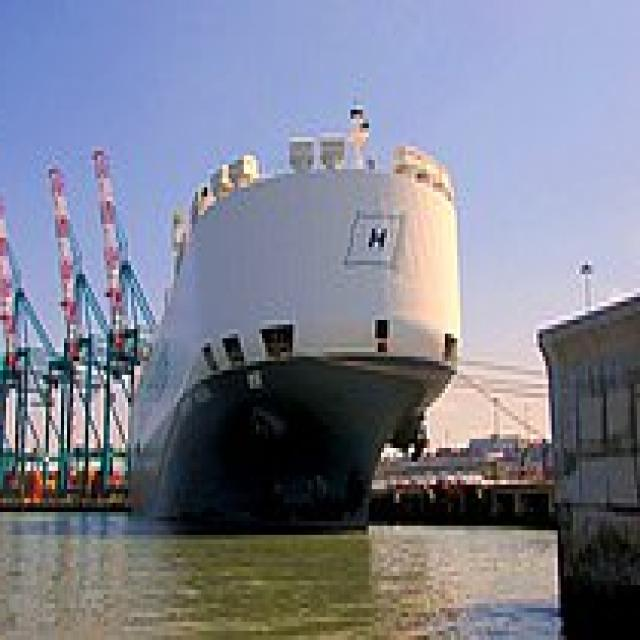Carrier: (128, 78, 466, 535)
